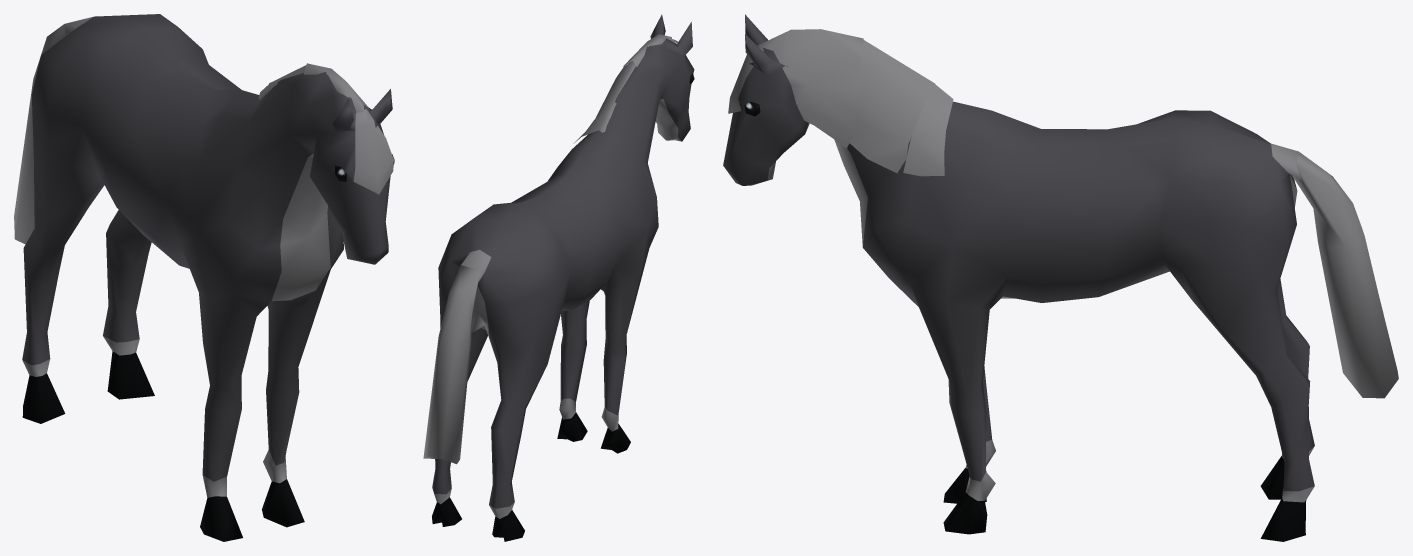
Rendered from Horse02.glb.
The picture shows the model from 3 angles, left to right: view 1: azimuth 30°, elevation 25°; view 2: azimuth 150°, elevation 25°; view 3: azimuth 270°, elevation 25°; orthographic projection. The views are drawn at different scales.
Visible parts, largest first — view 1: Horse02; view 2: Horse02; view 3: Horse02.
Part boxes in pixels (x1,y1,x2,y2): Horse02: (14,14,394,541); Horse02: (423,14,694,541); Horse02: (723,14,1398,541).
Size of what is drawn, in the model's own units: 0.6081 by 2.01 by 2.51.
Materials: 1 (1 with a texture image).
